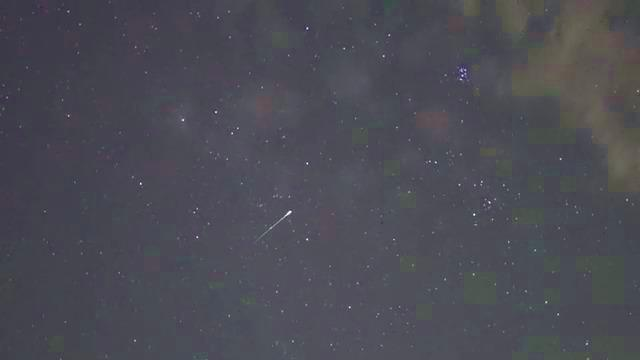meteorite: (239, 203, 312, 246)
